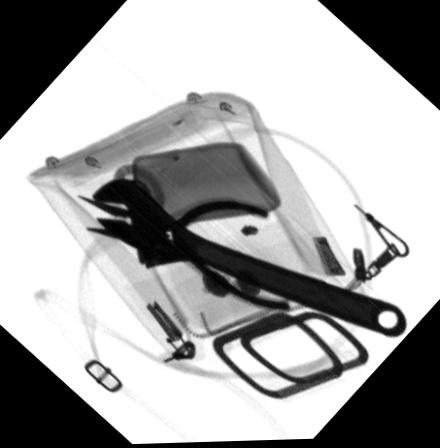Pliers: (76, 192, 290, 316)
Wrench: (91, 175, 408, 340)
